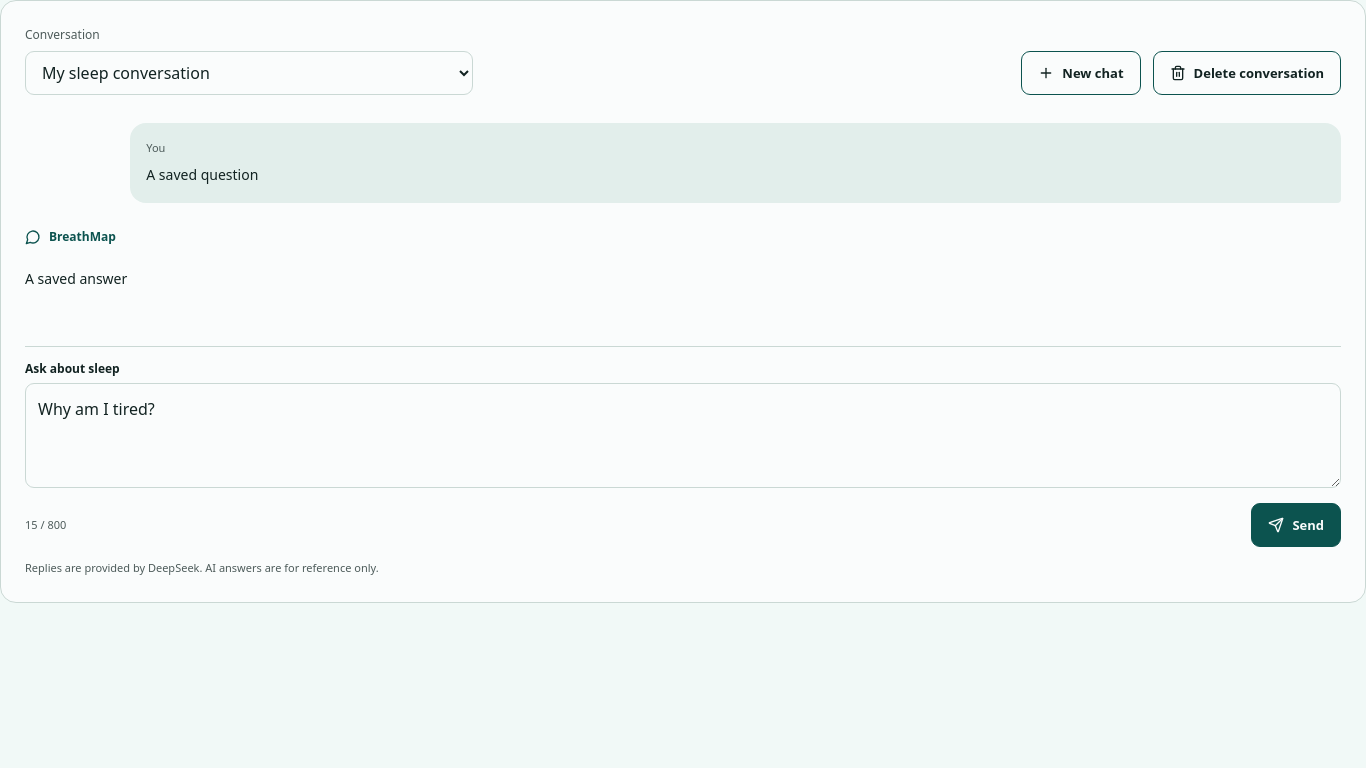
Scenario: General sleep conversation › does not clear another account or conversation when an earlier deletion completes late
Click the button "Delete conversation" at (1247, 73), box [1153,51,1341,95]
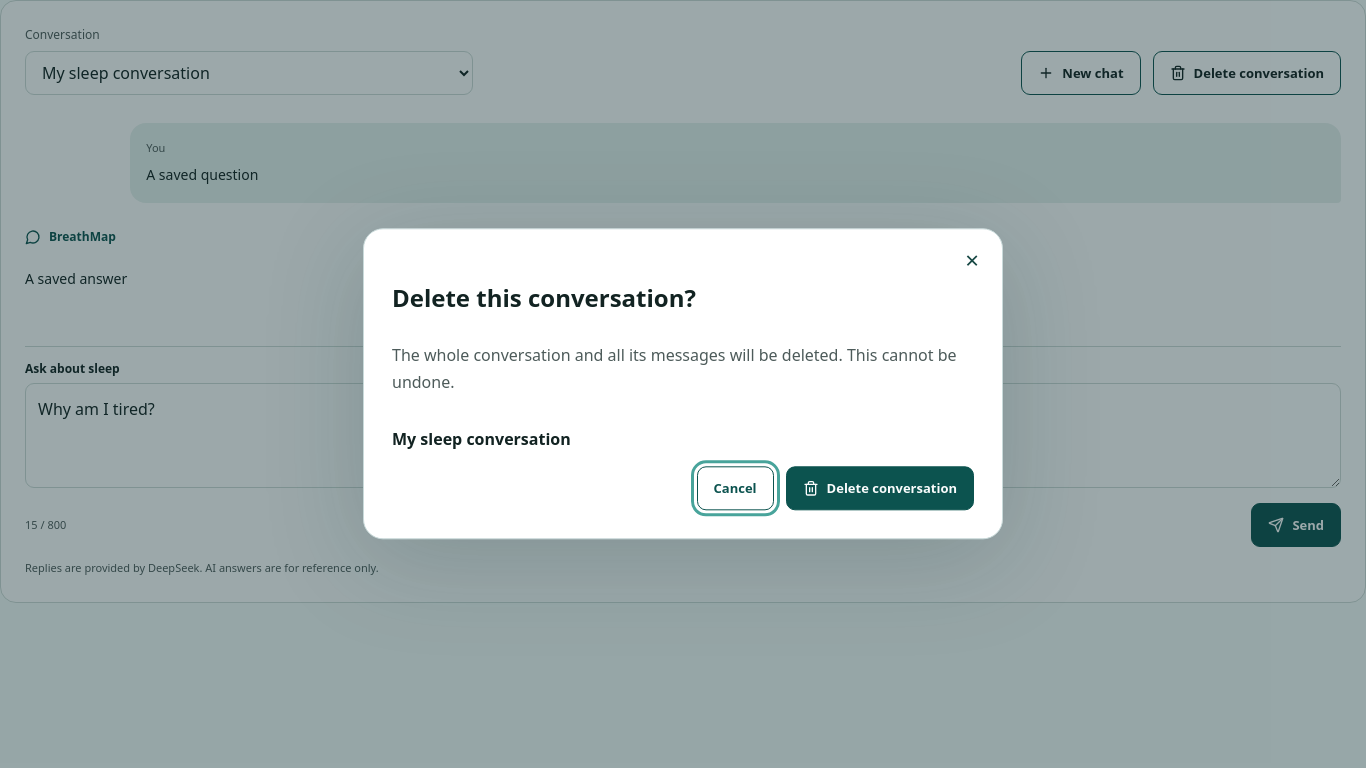
Click the button "Delete conversation" at (880, 489), box [786,467,974,511]
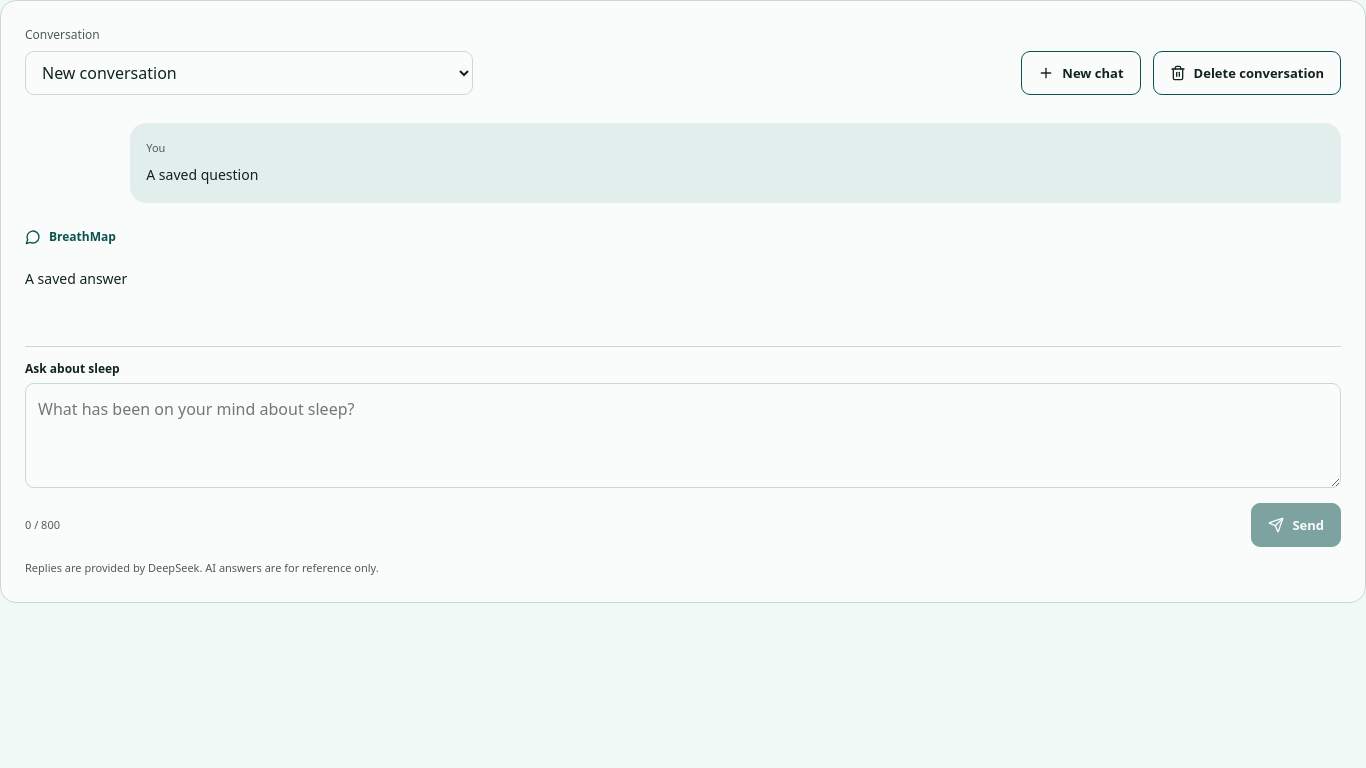
Check: the button "×" is gone
